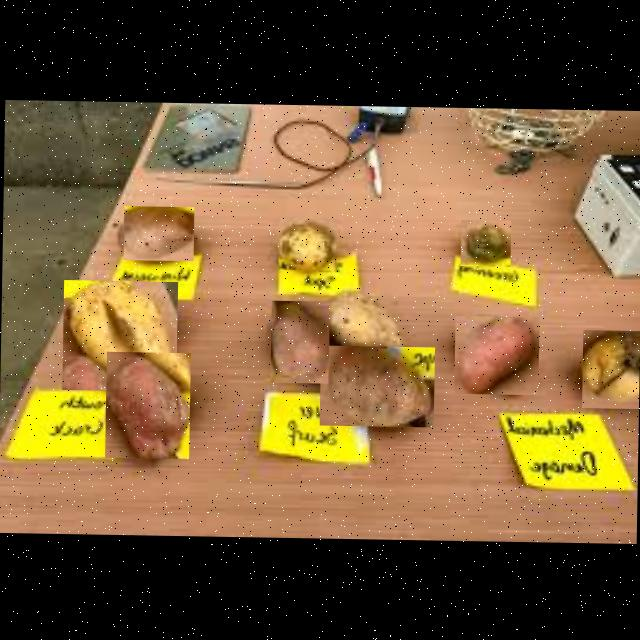Damaged potato: (60, 278, 176, 391), (318, 344, 434, 426), (104, 350, 190, 458), (269, 299, 328, 382), (580, 328, 640, 408), (122, 204, 193, 260), (459, 218, 510, 266)
Defected potato: (453, 314, 538, 394)
Diseased-fungal potato: (328, 286, 408, 350), (277, 216, 336, 269)
